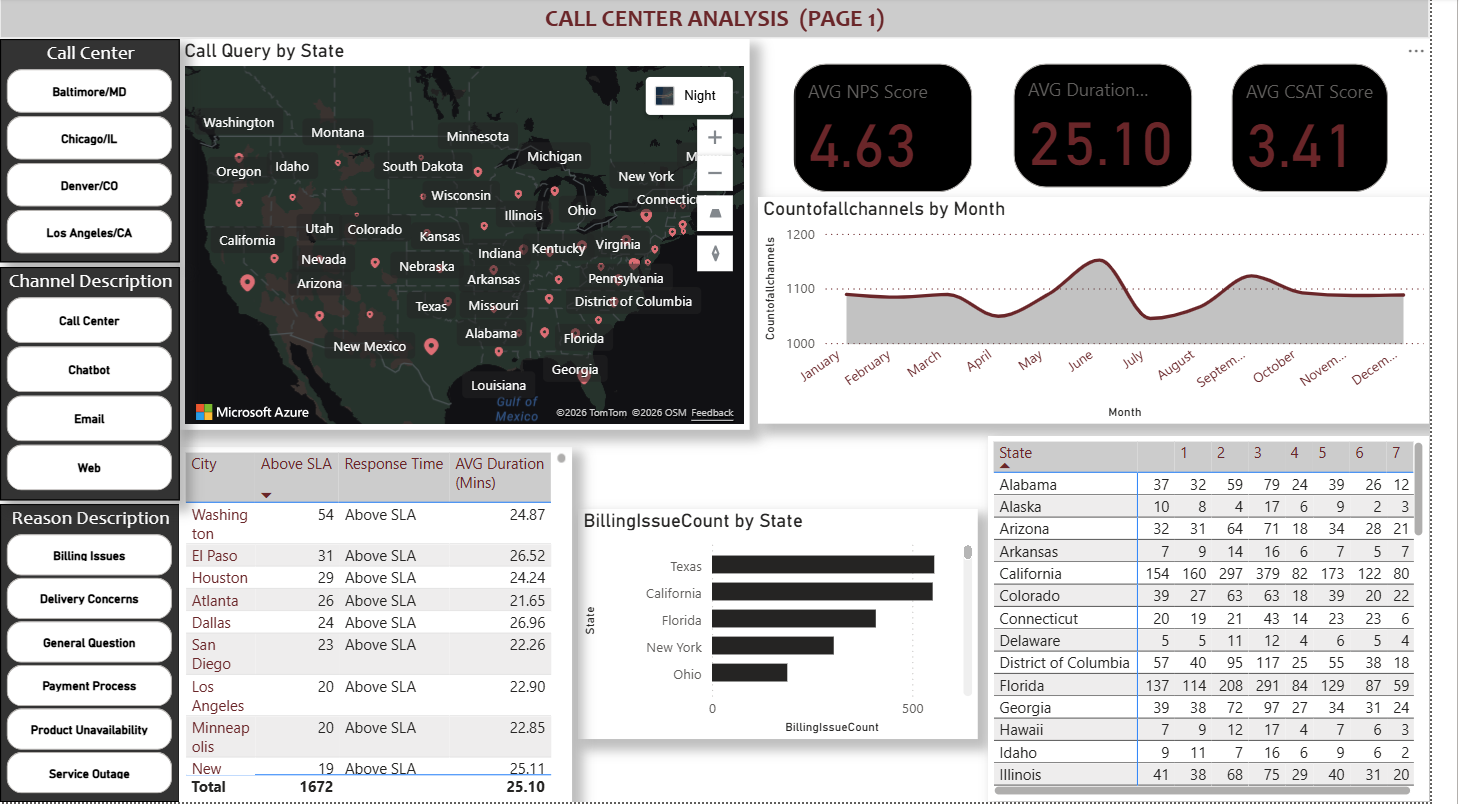

The page's visual inventory and layout, read from the dashboard file:
{"tool":"powerbi","page":{"name":"Page 1","canvas":[1280,720],"ordinal":0},"visuals":[{"type":"cardVisual","fields":{"Data":["Avg(Call Center Data.CSAT Score)"]},"box":[1098.1,53.5,150.8,125.5],"z":0},{"type":"cardVisual","fields":{"Data":["Avg(Call Center Data.NPS Score)","select"]},"box":[705.5,53.5,170.5,125.1],"z":1000},{"type":"cardVisual","fields":{"Data":["Avg(Call Center Data.Duration (Mins))"]},"box":[902.6,53.5,170.2,121.6],"z":2000},{"type":"advancedSlicerVisual","fields":{"Values":["Reason.Reason Description"]},"box":[0,453.4,160.5,266.6],"z":3000},{"type":"clusteredBarChart","fields":{"Category":["Call Center Data.State"],"Y":["Call Center Data.BillingIssueCount"]},"box":[517.8,457.9,358.2,205.8],"z":4000},{"type":"tableEx","fields":{"Values":["Call Center Data.City","Call Center Data.AboveSLACount","Call Center Data.Response Time","Avg(Call Center Data.Duration (Mins))"]},"box":[160.5,401.7,351.8,318.3],"z":5000},{"type":"azureMap","title":"Call Query by State","fields":{"Category":["Call Center Data.State"],"Size":["CountNonNull(Call Center Data.Duration (Mins))"]},"box":[160.5,36.3,511.4,350],"z":6000},{"type":"advancedSlicerVisual","fields":{"Values":["Call Center Data.Call Center"]},"box":[0,36.3,160.5,200.4],"z":7000},{"type":"advancedSlicerVisual","fields":{"Values":["Channel.Channel Description"]},"box":[0,241.2,160.5,208.6],"z":8000},{"type":"lineChart","fields":{"Category":["Call Center Data.Query Date.Variation.Date Hierarchy.Month"],"Y":["Call Center Data.Countofallchannels"]},"box":[679.2,178.6,601.2,203.1],"z":9000},{"type":"pivotTable","fields":{"Rows":["Call Center Data.State"],"Columns":["Call Center Data.CSAT Score"],"Values":["Call Center Data.Countofallchannels"]},"box":[885,392.6,395.4,327.4],"z":10000},{"type":"textbox","box":[0,0,1280,36],"z":11000}]}

Visuals, with their boxes in screenshot pixels (x1, y1, x2, y2), scaled from the page's 1280x720 canvas onto the 1459x804 screenshot:
cardVisual - Avg(Call Center Data.CSAT Score): {"left": 1252, "top": 60, "right": 1424, "bottom": 200}
cardVisual - Avg(Call Center Data.NPS Score) x select: {"left": 804, "top": 60, "right": 999, "bottom": 199}
cardVisual - Avg(Call Center Data.Duration (Mins)): {"left": 1029, "top": 60, "right": 1223, "bottom": 196}
advancedSlicerVisual - Reason.Reason Description: {"left": 0, "top": 506, "right": 183, "bottom": 803}
clusteredBarChart - Call Center Data.State x Call Center Data.BillingIssueCount: {"left": 590, "top": 511, "right": 999, "bottom": 741}
tableEx - Call Center Data.City x Call Center Data.AboveSLACount: {"left": 183, "top": 449, "right": 584, "bottom": 803}
"Call Query by State" azureMap: {"left": 183, "top": 41, "right": 766, "bottom": 431}
advancedSlicerVisual - Call Center Data.Call Center: {"left": 0, "top": 41, "right": 183, "bottom": 264}
advancedSlicerVisual - Channel.Channel Description: {"left": 0, "top": 269, "right": 183, "bottom": 502}
lineChart - Call Center Data.Query Date.Variation.Date Hierarchy.Month x Call Center Data.Countofallchannels: {"left": 774, "top": 199, "right": 1458, "bottom": 426}
pivotTable - Call Center Data.State x Call Center Data.CSAT Score: {"left": 1009, "top": 438, "right": 1458, "bottom": 803}
textbox: {"left": 0, "top": 0, "right": 1458, "bottom": 40}
